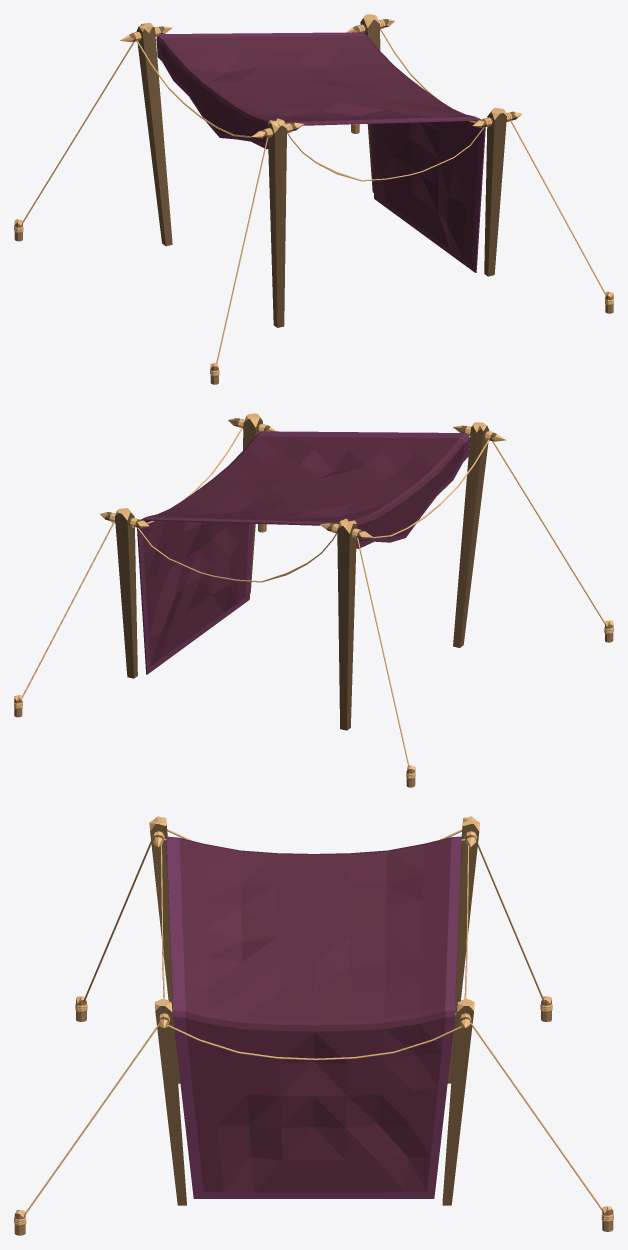
File: SFM_AP_Alchemy_Stall.fbx
3 views of the same model, one above another, from view 1: azimuth 30°, elevation 25°; view 2: azimuth 150°, elevation 25°; view 3: azimuth 270°, elevation 25° (orthographic). The views are drawn at different scales.
Visible parts, largest first — view 1: SFM_AP_Alchemy_Stall; view 2: SFM_AP_Alchemy_Stall; view 3: SFM_AP_Alchemy_Stall.
Boxes of the visible parts, x1,y1,x2,y2 form: SFM_AP_Alchemy_Stall: (14, 14, 613, 384); SFM_AP_Alchemy_Stall: (14, 413, 613, 787); SFM_AP_Alchemy_Stall: (14, 816, 613, 1235).
Bounding box in the file's own units: 618 × 336 × 718.
